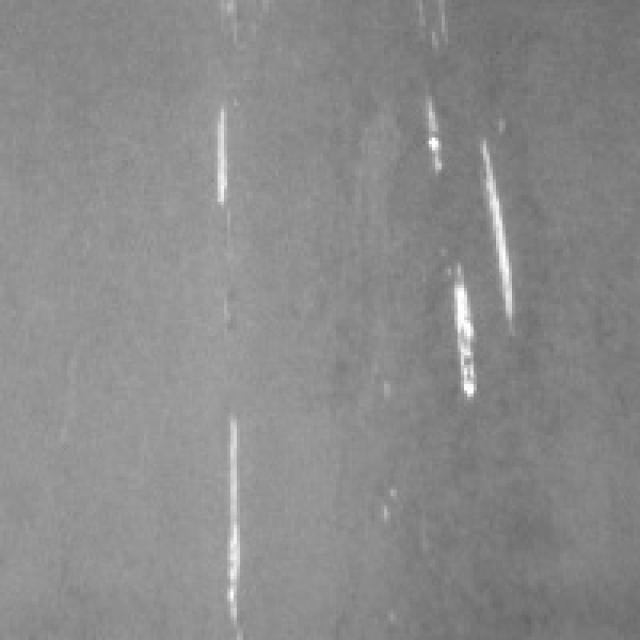scratches: (429, 112, 528, 339), (218, 404, 262, 630), (442, 243, 496, 403), (208, 86, 243, 215)
